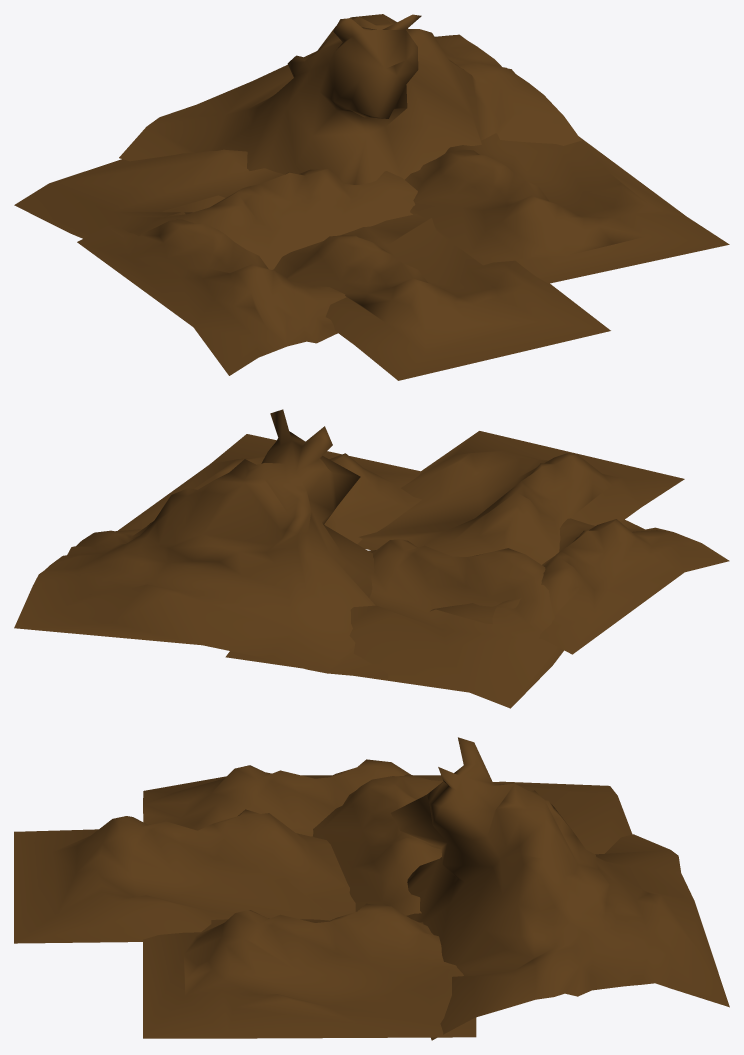
Rendered from newlandLowPoly.glb.
The picture shows the model from 3 angles, top to bottom: view 1: azimuth 30°, elevation 25°; view 2: azimuth 150°, elevation 25°; view 3: azimuth 270°, elevation 25°; orthographic projection. The views are drawn at different scales.
Visible parts, largest first — view 1: Landscape.003; view 2: Landscape.003; view 3: Landscape.003.
Boxes of the visible parts, bbox=[...] form: Landscape.003: bbox=[14, 14, 729, 380]; Landscape.003: bbox=[14, 409, 729, 708]; Landscape.003: bbox=[14, 737, 729, 1040].
Bounding box in the file's own units: 32.93 × 11.98 × 38.67.
